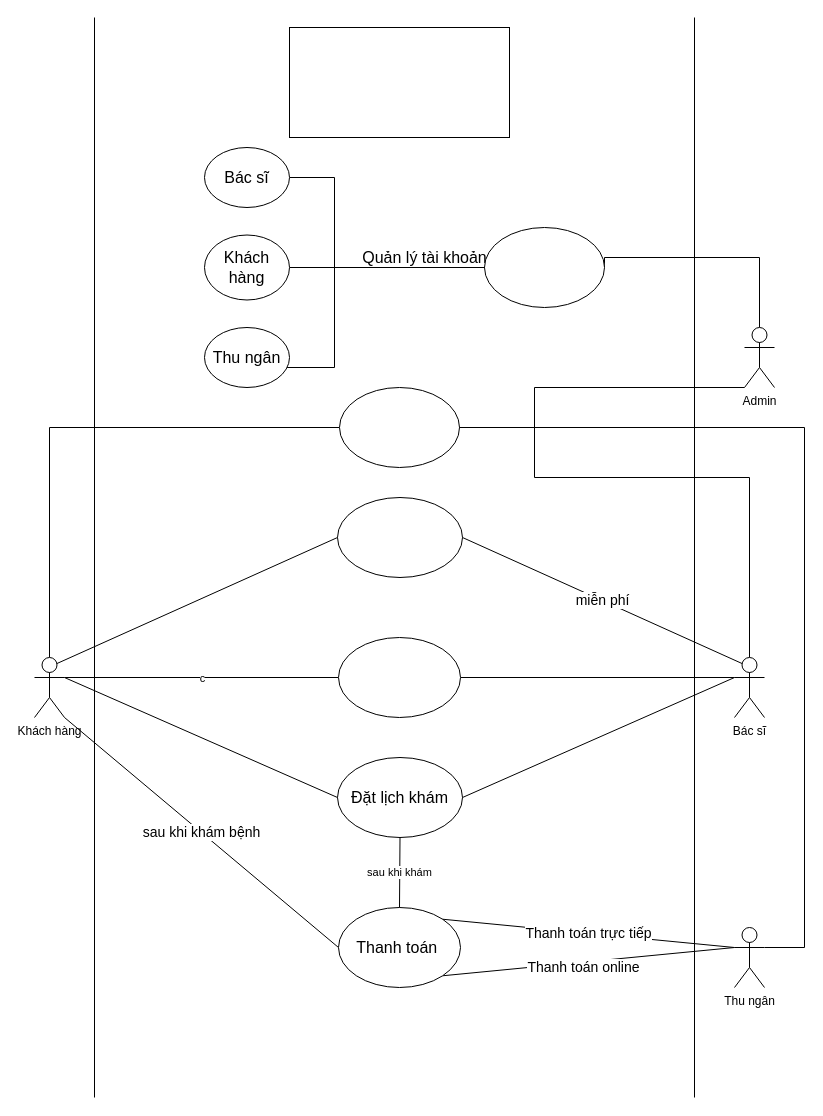
The diagram is 823 pixels wide and 1116 high, and some of its shapes have lost their labels. The shapes that lost their labels are listed below. From the top down, each one's centre as x and y in pixels, then its label:
At [399,82]: "Quản lí bệnh viện".
At [544,267]: "Đăng ký, xóa".
At [399,427]: "Đăng nhập".
At [399,537]: "Tư vấn online".
At [399,677]: "Hồ sơ".
